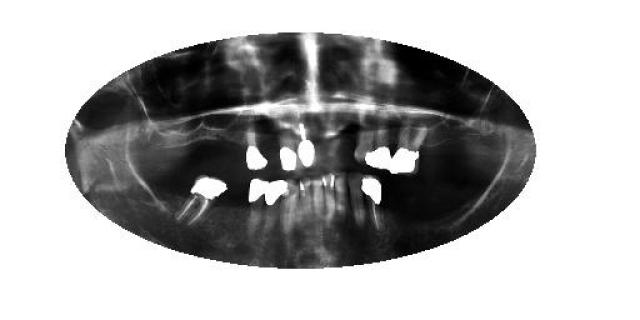Fillings: (391, 118, 429, 174), (245, 120, 269, 171), (280, 177, 300, 235), (248, 178, 268, 234), (373, 120, 392, 171), (264, 178, 281, 234), (278, 128, 298, 172)
Implant: (174, 175, 228, 227), (361, 174, 385, 232), (296, 118, 319, 168)
